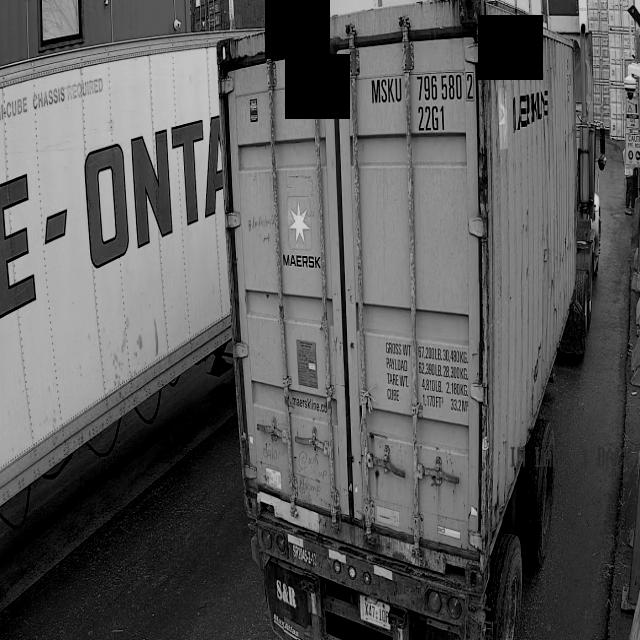container_number: (412, 71, 476, 132), (418, 344, 469, 418), (381, 341, 412, 405), (371, 77, 402, 107)
license_plate: (360, 595, 390, 628)
truck_with_container: (217, 0, 606, 640)
